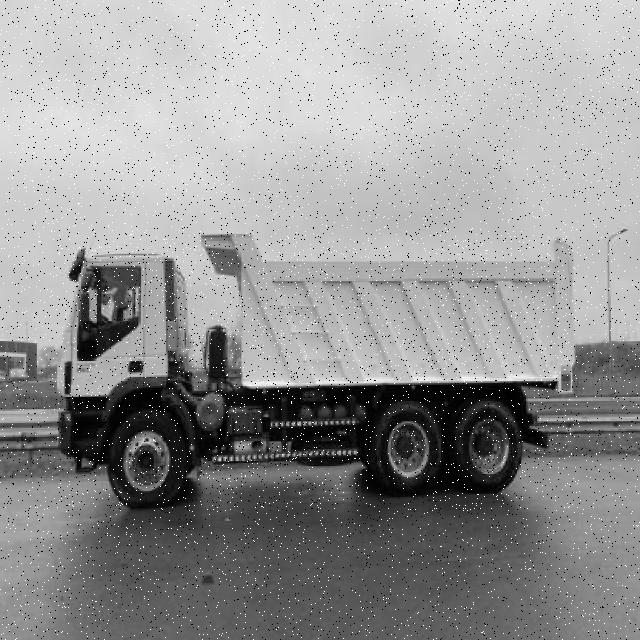Box Truck: (56, 233, 577, 511)
